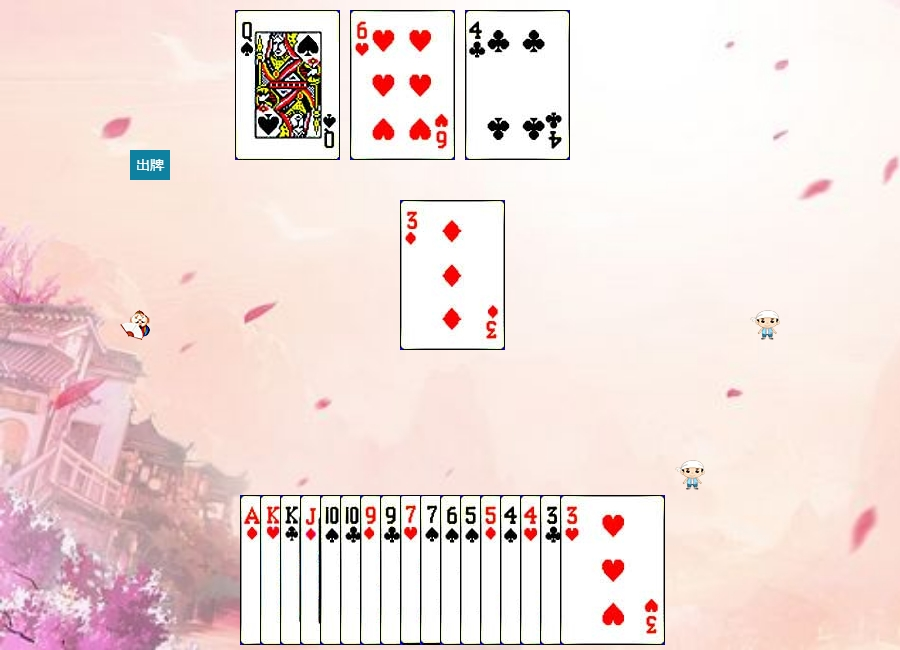10~2: (340, 495, 445, 645)
10~4: (320, 495, 425, 645)
11~1: (300, 495, 405, 645)
12~4: (235, 10, 340, 160)
13~2: (280, 495, 385, 645)
13~3: (260, 495, 365, 645)
14~1: (240, 495, 345, 645)
3~1: (400, 200, 505, 350)
3~2: (540, 495, 645, 645)
3~3: (560, 495, 665, 645)
4~2: (465, 10, 570, 160)
4~3: (520, 495, 625, 645)
4~4: (500, 495, 605, 645)
5~1: (480, 495, 585, 645)
5~4: (460, 495, 565, 645)
6~3: (350, 10, 455, 160)
6~4: (440, 495, 545, 645)
7~3: (400, 495, 505, 645)
7~4: (420, 495, 525, 645)
9~1: (360, 495, 465, 645)
9~2: (380, 495, 485, 645)
